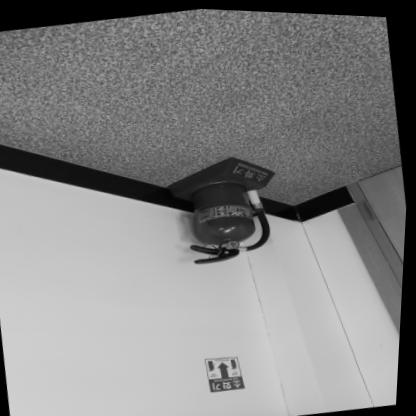FE: (162, 146, 289, 269)
